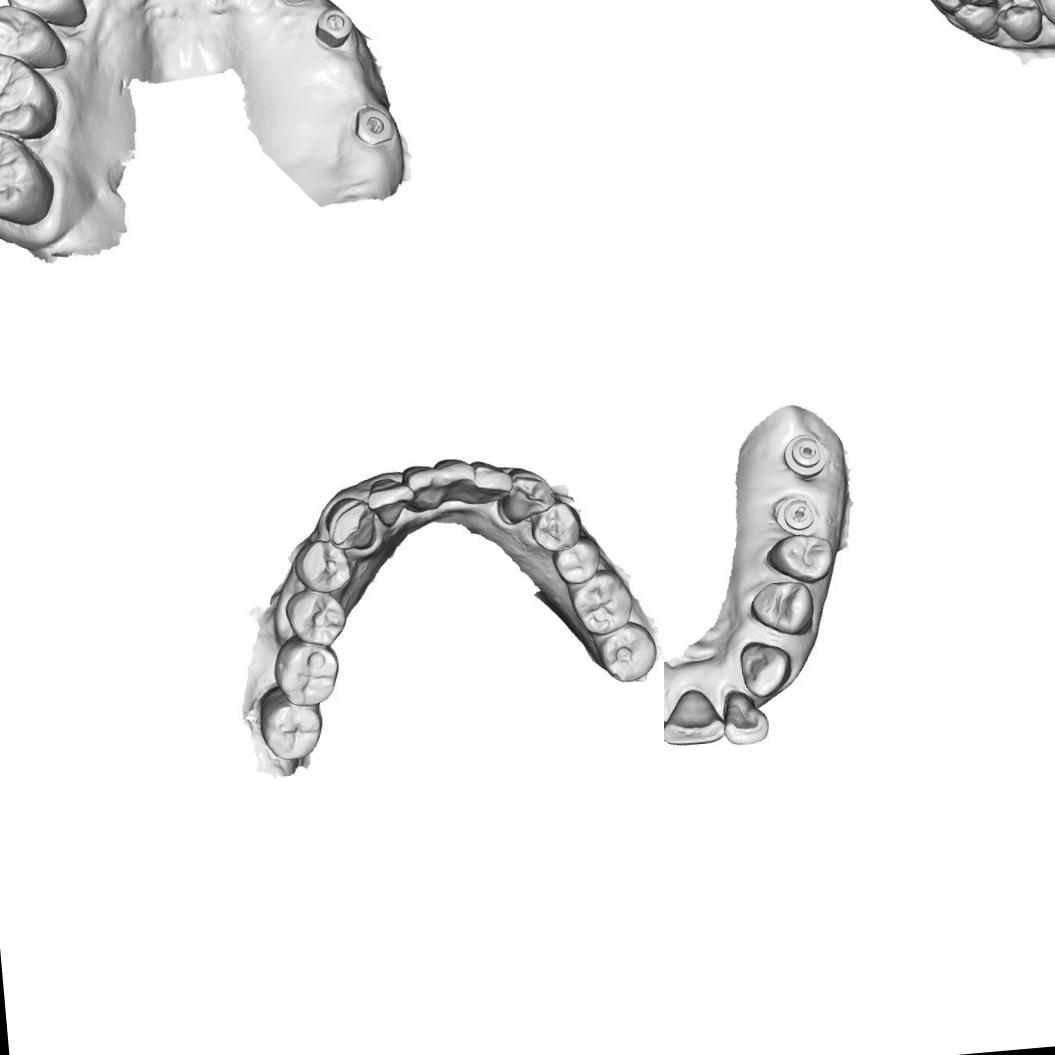canine: (734, 632, 796, 701), (494, 463, 551, 528), (322, 494, 381, 552), (951, 0, 1002, 42)
implant: (350, 97, 402, 149), (314, 5, 358, 48), (279, 0, 316, 8)
implant_minus: (780, 428, 830, 486), (771, 493, 821, 537)
incisor: (664, 690, 726, 752), (718, 686, 770, 748), (468, 456, 516, 508), (404, 460, 446, 514), (370, 473, 414, 522), (436, 458, 478, 508), (927, 0, 982, 11)
molar: (0, 123, 60, 233), (0, 44, 62, 144), (252, 683, 324, 767), (564, 566, 638, 642), (272, 638, 342, 710), (595, 616, 659, 686)
premolar: (0, 0, 67, 75), (742, 576, 818, 640), (761, 528, 838, 588), (282, 584, 349, 652), (288, 534, 356, 596), (526, 497, 582, 554), (0, 0, 89, 33), (552, 534, 604, 586), (993, 0, 1043, 44), (1031, 0, 1055, 33)
